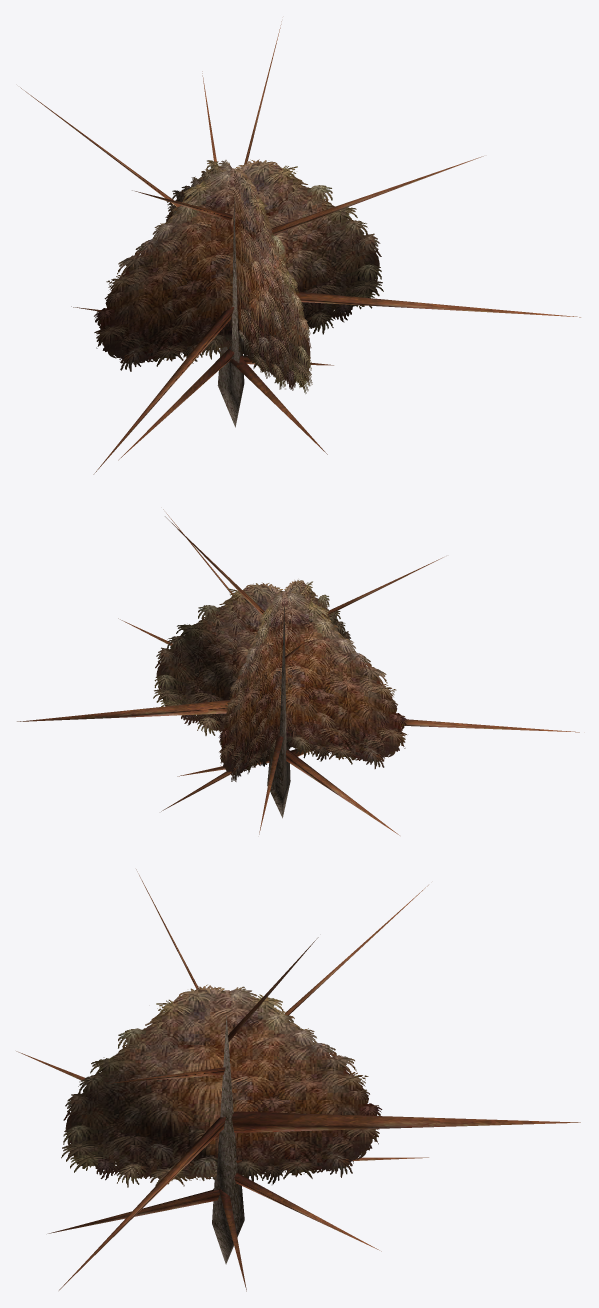
File: shrb_yavn_clawthorn_l4.fbx
The picture shows the model from 3 angles, top to bottom: view 1: azimuth 30°, elevation 25°; view 2: azimuth 150°, elevation 25°; view 3: azimuth 270°, elevation 25°; orthographic projection. The views are drawn at different scales.
Parts seen in each view (by area): view 1: mesh_node; view 2: mesh_node; view 3: mesh_node.
Part boxes in pixels (<box>): mesh_node: <box>20,21,580,474</box>; mesh_node: <box>17,509,579,835</box>; mesh_node: <box>16,869,580,1291</box>.
Size of the model in its own units: 3.43 by 2.29 by 3.13.
